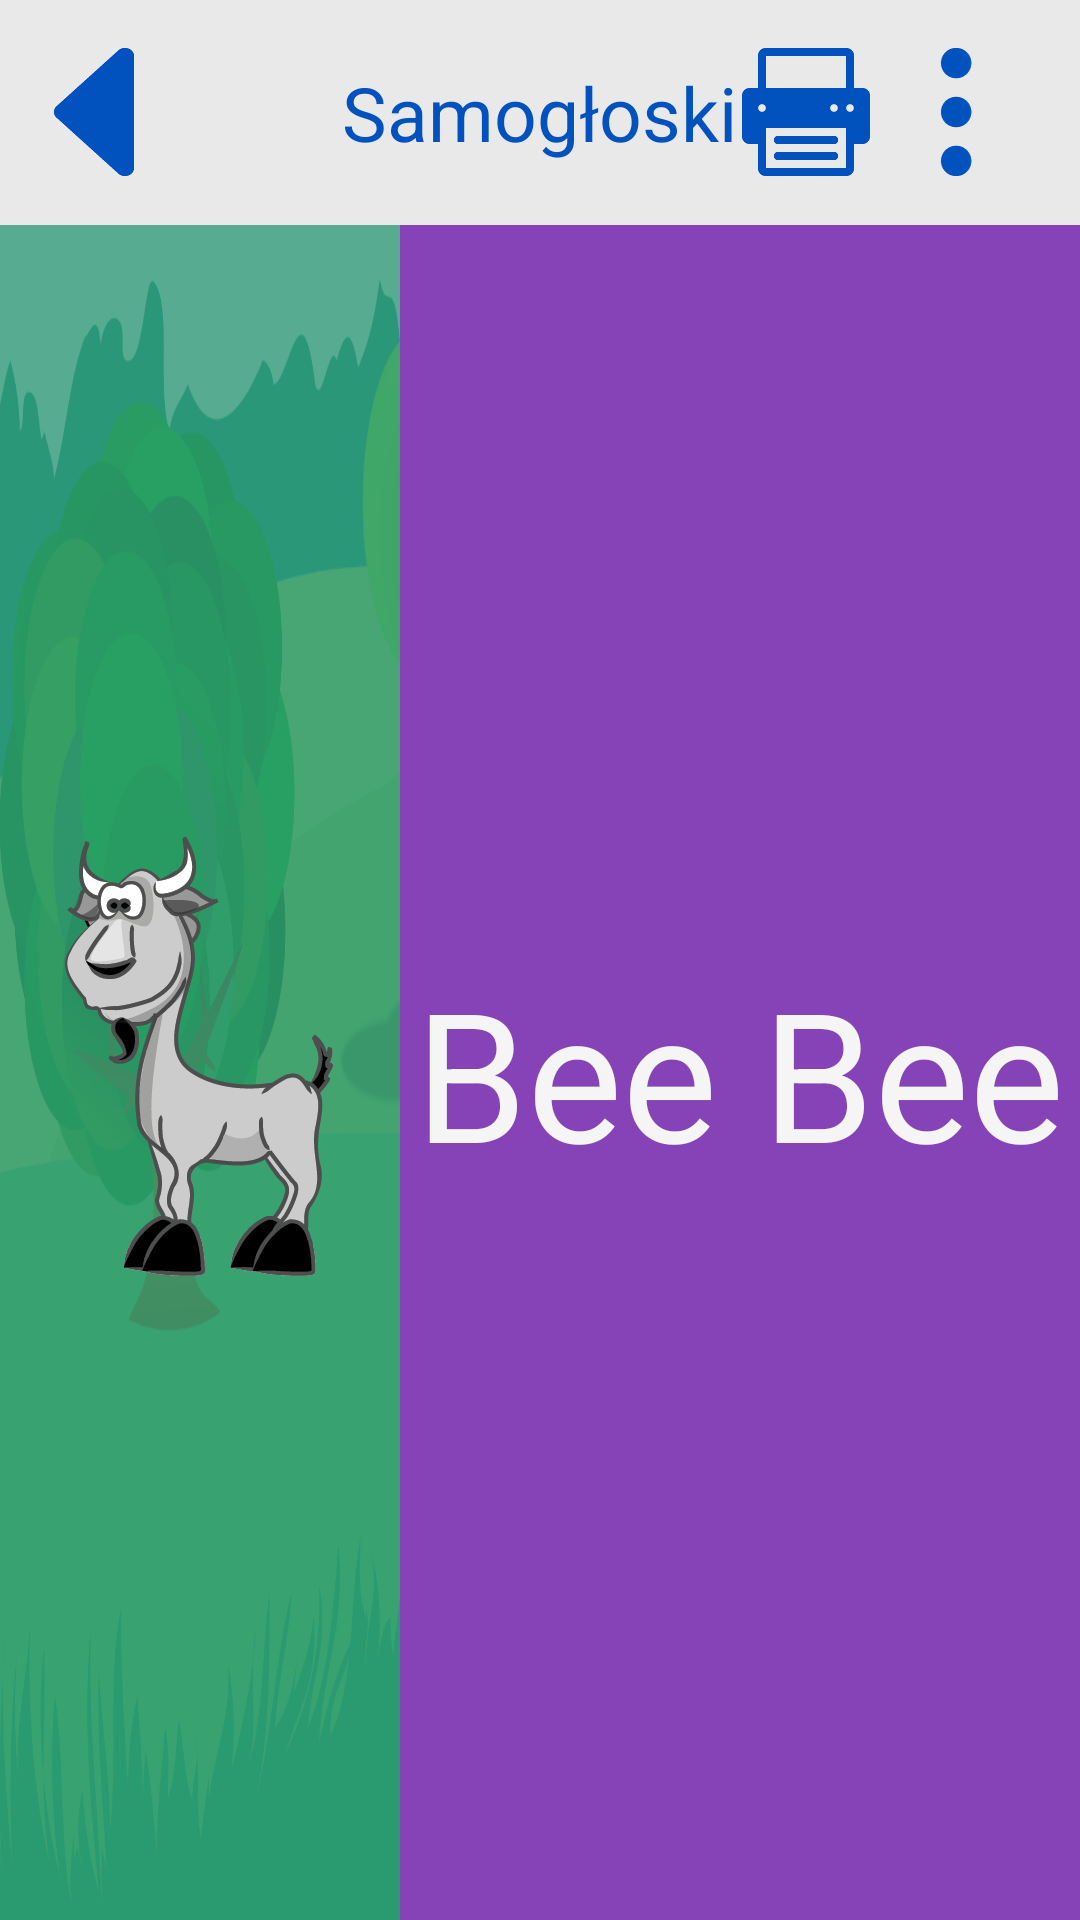

Icon click points for this 1080×1920 phone screenshot, format [x,y]:
back: [94,112]
Przycisk wydruku: [797,112]
